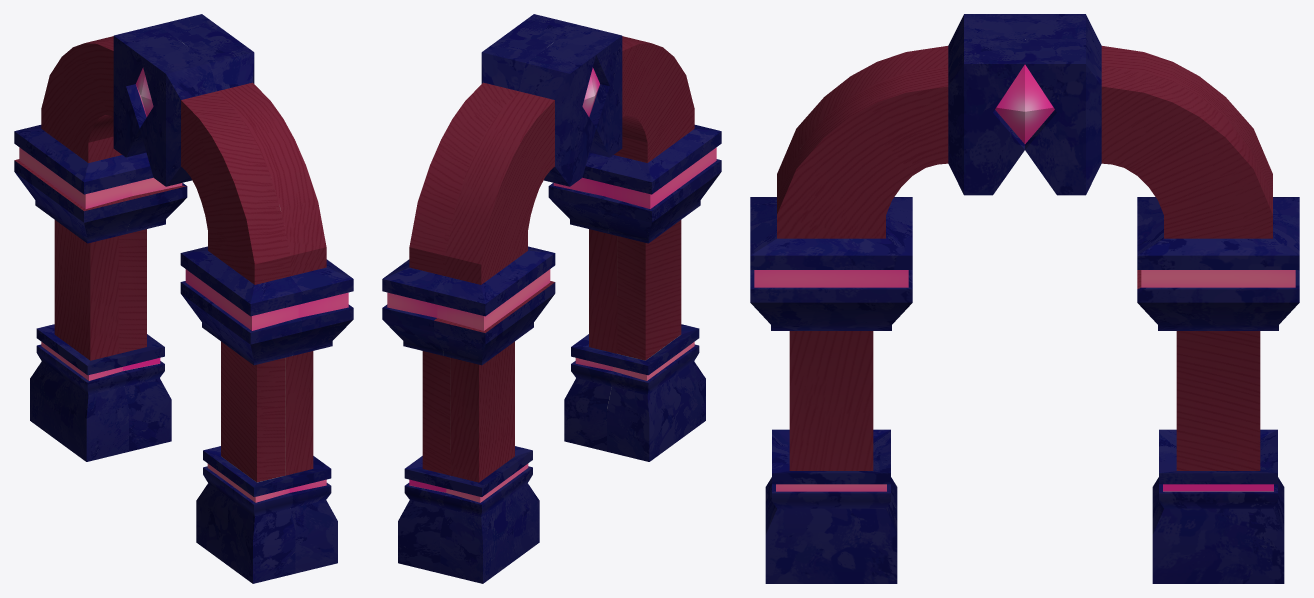
The model's file is ARCO3_R.obj.
3 renders of one model, left to right at view 1: azimuth 30°, elevation 25°; view 2: azimuth 150°, elevation 25°; view 3: azimuth 270°, elevation 25°, orthographic. The views are drawn at different scales.
Visible parts, largest first — view 1: pCube1_pCube1SG1_25, pCube1_pCube1SG1_19, pCube1_pCube1SG1_17, pCube1_pCube1SG1_1, pCube1_pCube1SG_20, pCube1_pCube1SG, pCube1_pCube1SG1, pCube1_pCube1SG_14, pCube1_pCube1SG1_16, pCube1_pCube1SG_7, pCube1_pCube1SG_22, pCube1_pCube1SG1_24 (+27 smaller); view 2: pCube1_pCube1SG1_9, pCube1_pCube1SG1_3, pCube1_pCube1SG1_1, pCube1_pCube1SG1_17, pCube1_pCube1SG_20, pCube1_pCube1SG, pCube1_pCube1SG1_16, pCube1_pCube1SG_34, pCube1_pCube1SG1, pCube1_pCube1SG_27, pCube1_pCube1SG_2, pCube1_pCube1SG1_8 (+27 smaller); view 3: pCube1_pCube1SG1_7, pCube1_pCube1SG1_23, pCube1_pCube1SG_7, pCube1_pCube1SG_27, pCube1_pCube1SG1_6, pCube1_pCube1SG1_22, pCube1_pCube1SG_8, pCube1_pCube1SG_28, pCube1_pCube1SG_9, pCube1_pCube1SG_29, pCube1_pCube1SG1_3, pCube1_pCube1SG1_19 (+18 smaller).
Part boxes in pixels (x1,y1,x2,y2): pCube1_pCube1SG1_25: (217, 82, 326, 275); pCube1_pCube1SG1_19: (181, 91, 290, 284); pCube1_pCube1SG1_17: (181, 100, 254, 284); pCube1_pCube1SG1_1: (41, 43, 113, 162); pCube1_pCube1SG_20: (37, 344, 256, 583); pCube1_pCube1SG: (30, 329, 89, 461); pCube1_pCube1SG1: (54, 220, 90, 360); pCube1_pCube1SG_14: (119, 55, 171, 451); pCube1_pCube1SG1_16: (221, 341, 256, 482); pCube1_pCube1SG_7: (86, 334, 164, 461); pCube1_pCube1SG_22: (140, 55, 180, 186); pCube1_pCube1SG1_24: (285, 351, 313, 475); pCube1_pCube1SG1_9: (409, 82, 518, 275); pCube1_pCube1SG1_3: (445, 91, 554, 284); pCube1_pCube1SG1_1: (481, 100, 554, 284); pCube1_pCube1SG1_17: (622, 43, 694, 162); pCube1_pCube1SG_20: (405, 329, 705, 504); pCube1_pCube1SG: (479, 450, 539, 583); pCube1_pCube1SG1_16: (645, 220, 681, 360); pCube1_pCube1SG_34: (564, 55, 616, 451); pCube1_pCube1SG1: (479, 341, 514, 482); pCube1_pCube1SG_27: (571, 334, 649, 461); pCube1_pCube1SG_2: (555, 55, 595, 186); pCube1_pCube1SG1_8: (422, 351, 450, 475); pCube1_pCube1SG1_7: (1101, 86, 1272, 238); pCube1_pCube1SG1_23: (777, 86, 948, 238); pCube1_pCube1SG_7: (1152, 429, 1284, 583); pCube1_pCube1SG_27: (765, 429, 897, 583); pCube1_pCube1SG1_6: (1176, 331, 1260, 470); pCube1_pCube1SG1_22: (789, 331, 873, 470); pCube1_pCube1SG_8: (1137, 238, 1299, 330); pCube1_pCube1SG_28: (750, 238, 912, 330); pCube1_pCube1SG_9: (1025, 64, 1101, 195); pCube1_pCube1SG_29: (948, 64, 1024, 195); pCube1_pCube1SG1_3: (1101, 46, 1272, 193); pCube1_pCube1SG1_19: (777, 46, 948, 193).
Size of the model in its own units: 125 by 519 by 496.
3 materials, 3 textured.
